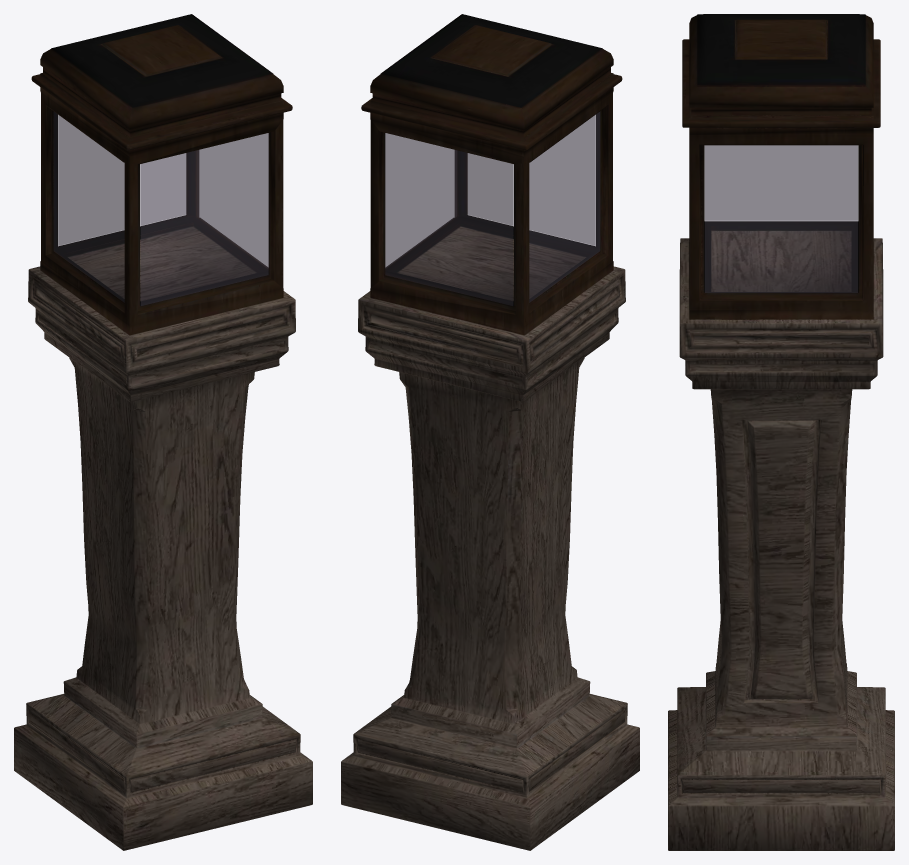
File: redoma.glb
The picture shows the model from 3 angles, left to right: view 1: azimuth 30°, elevation 25°; view 2: azimuth 150°, elevation 25°; view 3: azimuth 270°, elevation 25°; orthographic projection. The views are drawn at different scales.
Visible parts, largest first — view 1: Object_4, Object_6; view 2: Object_4, Object_6; view 3: Object_4, Object_6.
Boxes of the visible parts, bbox=[...] form: Object_4: bbox=[14, 14, 312, 850]; Object_6: bbox=[54, 112, 268, 305]; Object_4: bbox=[341, 14, 639, 850]; Object_6: bbox=[385, 112, 599, 305]; Object_4: bbox=[668, 14, 894, 850]; Object_6: bbox=[705, 145, 857, 292].
Size of the model in its own units: 0.426 by 1.59 by 0.426.
Materials: 2 (1 with a texture image).
